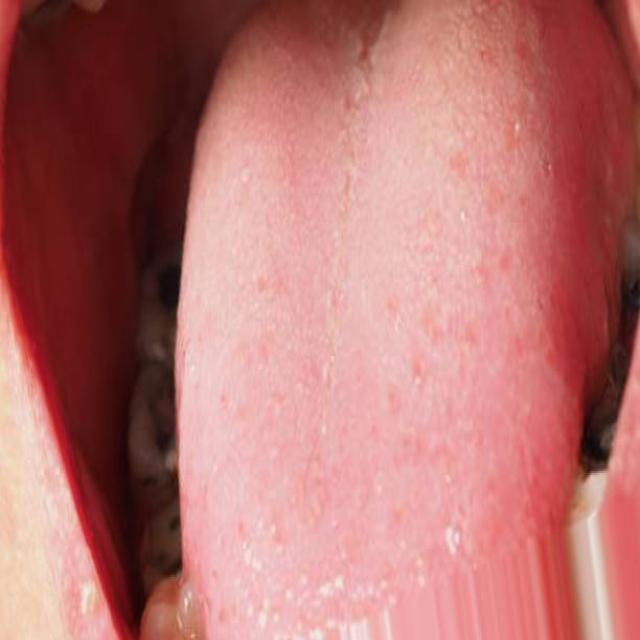caries: (573, 335, 623, 477), (138, 478, 187, 587), (140, 360, 176, 464), (138, 256, 182, 338), (616, 249, 640, 345)
